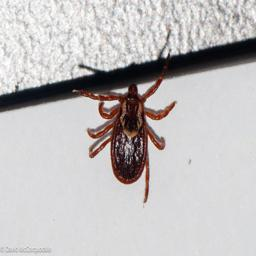Dermacentor variabilis: (80, 77, 177, 202), (77, 200, 80, 203)
